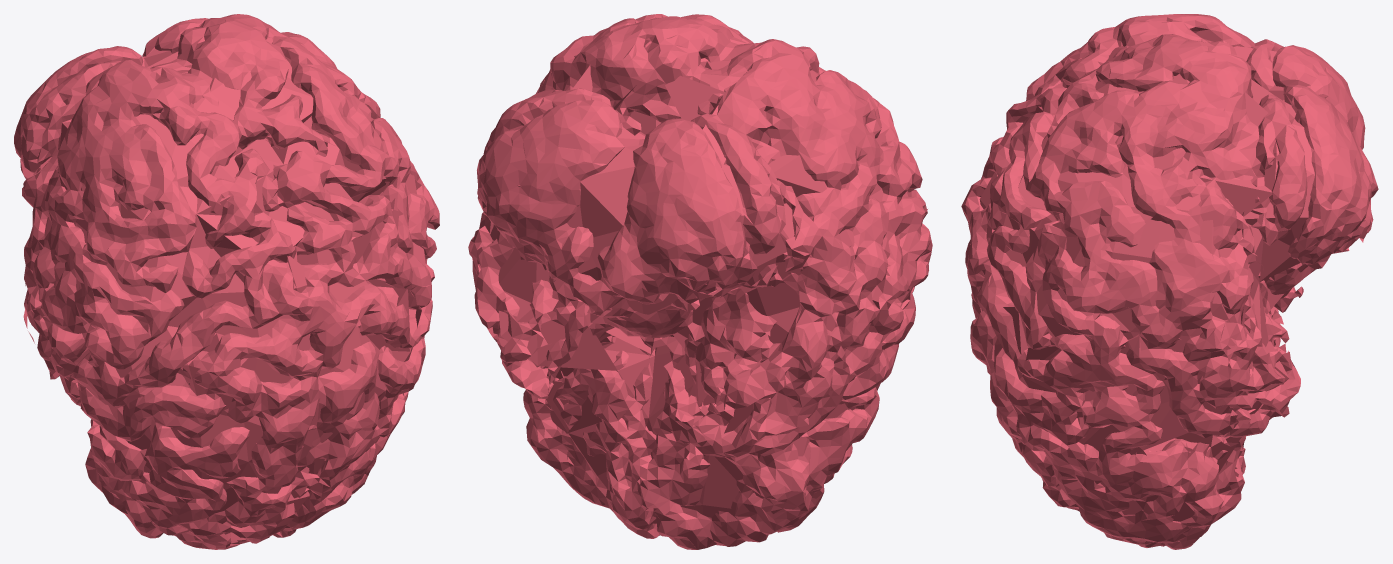
Rendered from Brain.gltf.
The picture shows the model from 3 angles, left to right: view 1: azimuth 30°, elevation 25°; view 2: azimuth 150°, elevation 25°; view 3: azimuth 270°, elevation 25°; orthographic projection. The views are drawn at different scales.
Parts seen in each view (by area): view 1: Brain, Brain Colider; view 2: Brain, Brain Colider; view 3: Brain, Brain Colider.
Boxes of the visible parts, left/top/right/bottom form: Brain: left=14, top=14, right=439, bottom=549; Brain Colider: left=38, top=36, right=425, bottom=540; Brain: left=468, top=14, right=932, bottom=549; Brain Colider: left=490, top=37, right=911, bottom=517; Brain: left=961, top=14, right=1378, bottom=549; Brain Colider: left=979, top=39, right=1359, bottom=521.
Size of the model in its own units: 131 by 169 by 129.
